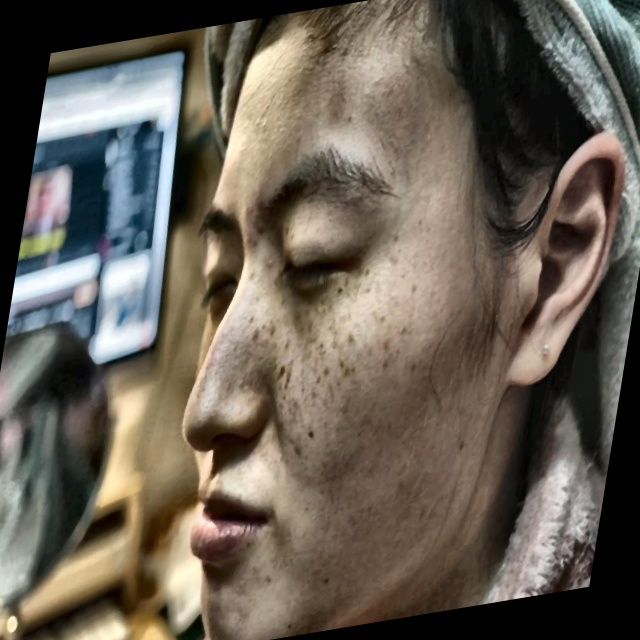comedone: (235, 216, 270, 258), (249, 186, 271, 216)
